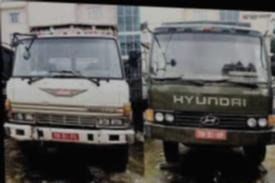License_Plate: (196, 128, 229, 142), (50, 131, 80, 141)
